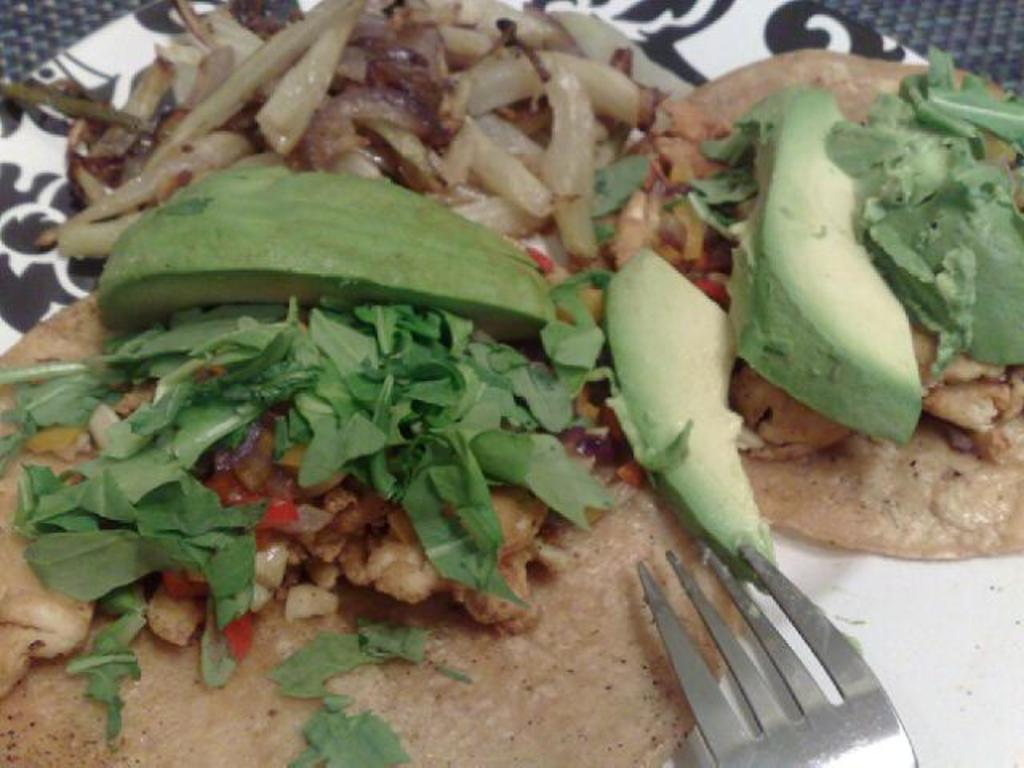taco: (0, 285, 736, 766), (610, 43, 1022, 560)
